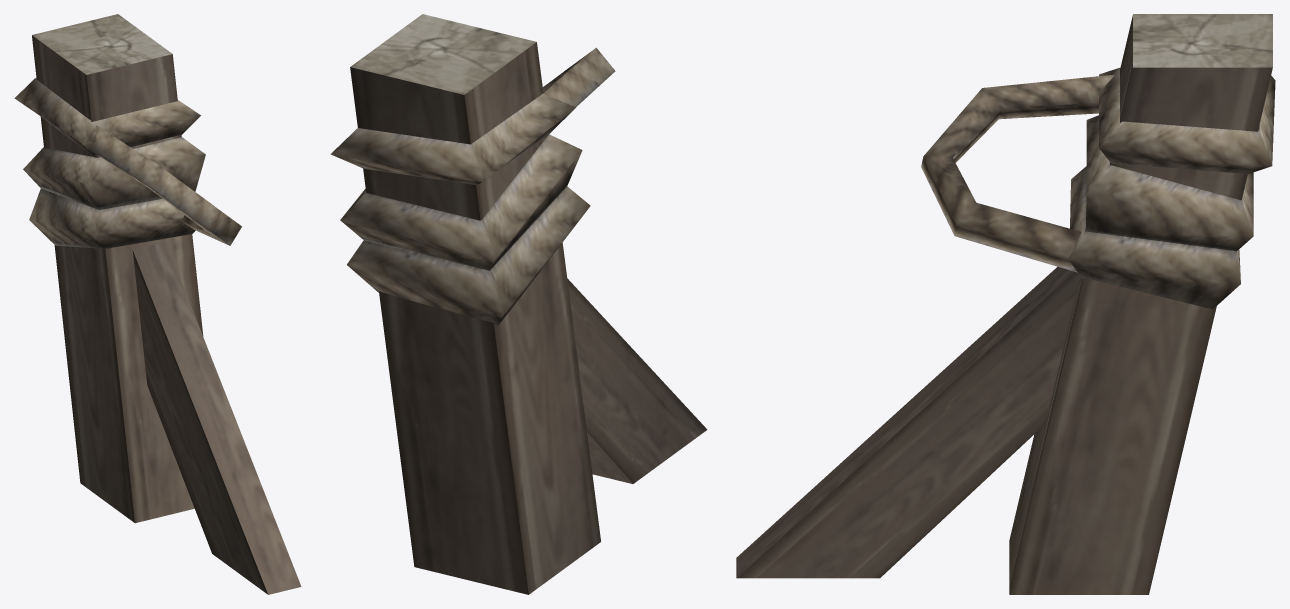
Rendered from Lantern_Wall_Pole.fbx.
The picture shows the model from 3 angles, left to right: view 1: azimuth 30°, elevation 25°; view 2: azimuth 150°, elevation 25°; view 3: azimuth 270°, elevation 25°; orthographic projection. The views are drawn at different scales.
Parts seen in each view (by area): view 1: Lantern_Wall_Pole; view 2: Lantern_Wall_Pole; view 3: Lantern_Wall_Pole.
Part boxes in pixels (x1,y1,x2,y2): Lantern_Wall_Pole: (14, 14, 301, 594); Lantern_Wall_Pole: (330, 14, 707, 594); Lantern_Wall_Pole: (736, 14, 1275, 594).
Bounding box in the file's own units: 0.2573 × 0.8621 × 0.7989.
